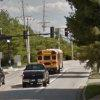Bus: (33, 41, 68, 73)
